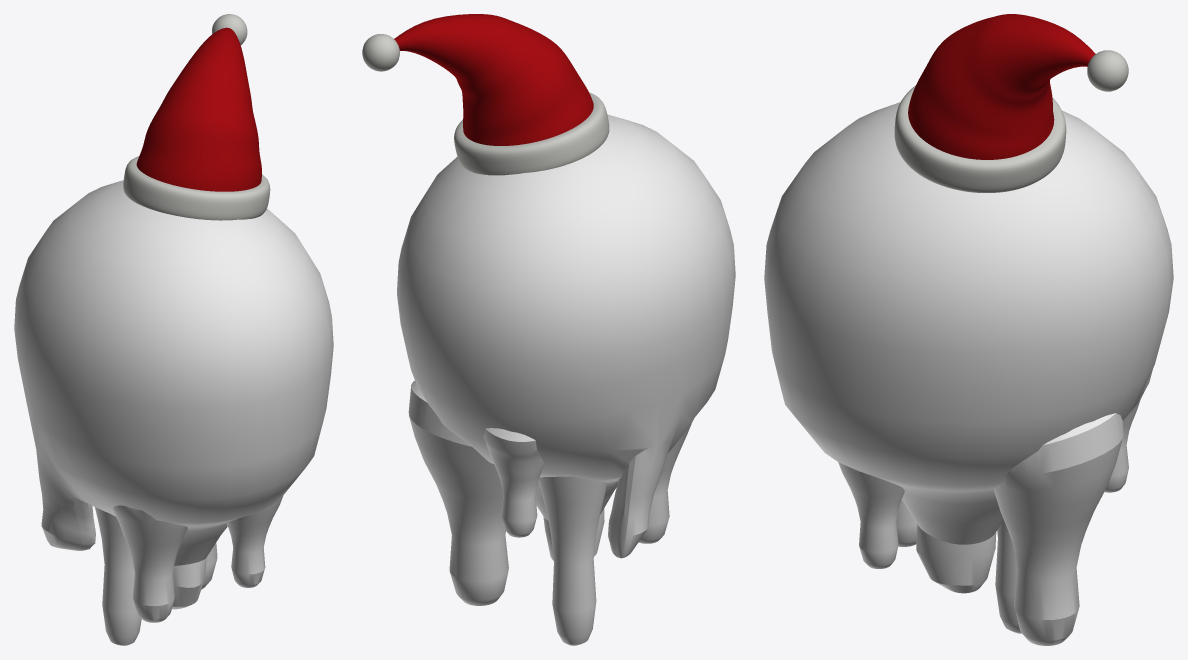
The model's file is cranojellu.fbx.
3 views of the same model, side by side, from view 1: azimuth 30°, elevation 25°; view 2: azimuth 150°, elevation 25°; view 3: azimuth 270°, elevation 25° (orthographic). The views are drawn at different scales.
Visible parts, largest first — view 1: drop.005, Chapeau.001; view 2: drop.005, Chapeau.001; view 3: drop.005, Chapeau.001.
Part boxes in pixels (x1=…): drop.005: x1=14, y1=180, x2=333, y2=645; Chapeau.001: x1=123, y1=14, x2=270, y2=220; drop.005: x1=397, y1=114, x2=735, y2=645; Chapeau.001: x1=362, y1=14, x2=609, y2=175; drop.005: x1=764, y1=102, x2=1173, y2=645; Chapeau.001: x1=894, y1=14, x2=1128, y2=192.
Bounding box in the file's own units: 161 × 328 × 182.
